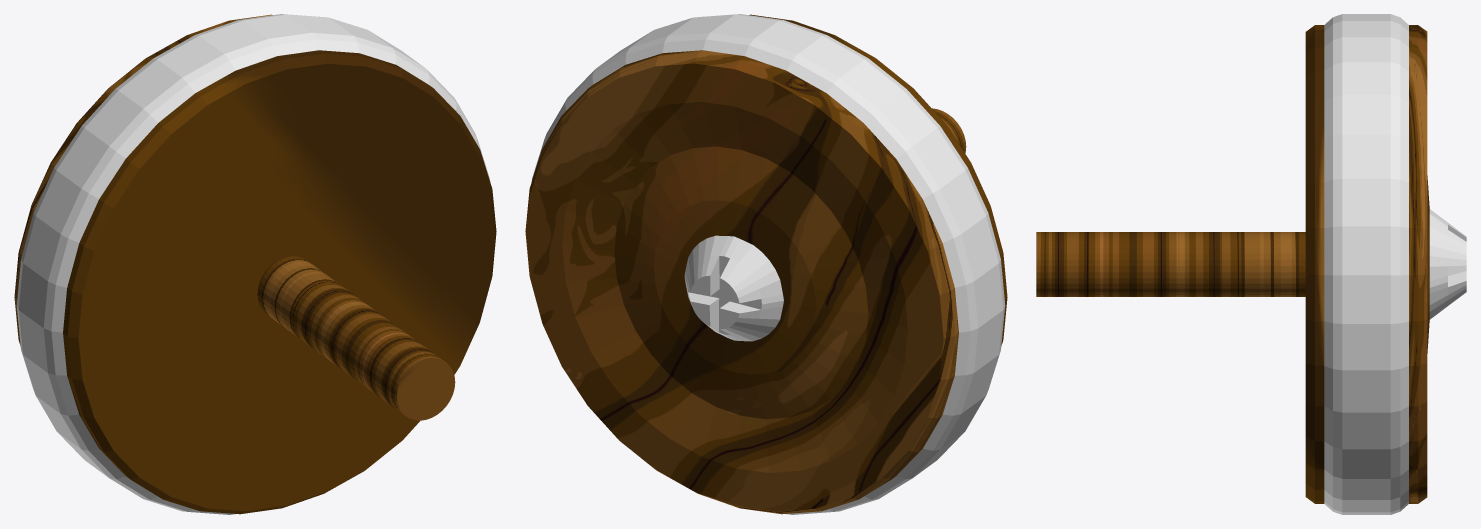
Rendered from Roue3.fbx.
3 views of the same model, side by side, from view 1: azimuth 30°, elevation 25°; view 2: azimuth 150°, elevation 25°; view 3: azimuth 270°, elevation 25° (orthographic). The views are drawn at different scales.
Visible parts, largest first — view 1: Roue, Pneu, Avant; view 2: Avant, Pneu, Visse, Roue; view 3: Pneu, Roue, Avant, Visse.
Boxes of the visible parts, <box> form: Roue: <box>63,50,496,514</box>; Pneu: <box>16,14,490,514</box>; Avant: <box>14,14,272,345</box>; Avant: <box>525,50,958,514</box>; Pneu: <box>531,14,1005,514</box>; Visse: <box>684,235,783,341</box>; Roue: <box>749,14,1007,345</box>; Pneu: <box>1324,14,1408,514</box>; Roue: <box>1036,25,1324,503</box>; Avant: <box>1409,25,1429,503</box>; Visse: <box>1429,209,1466,319</box>.
Bounding box in the file's own units: 209 × 209 × 180.
